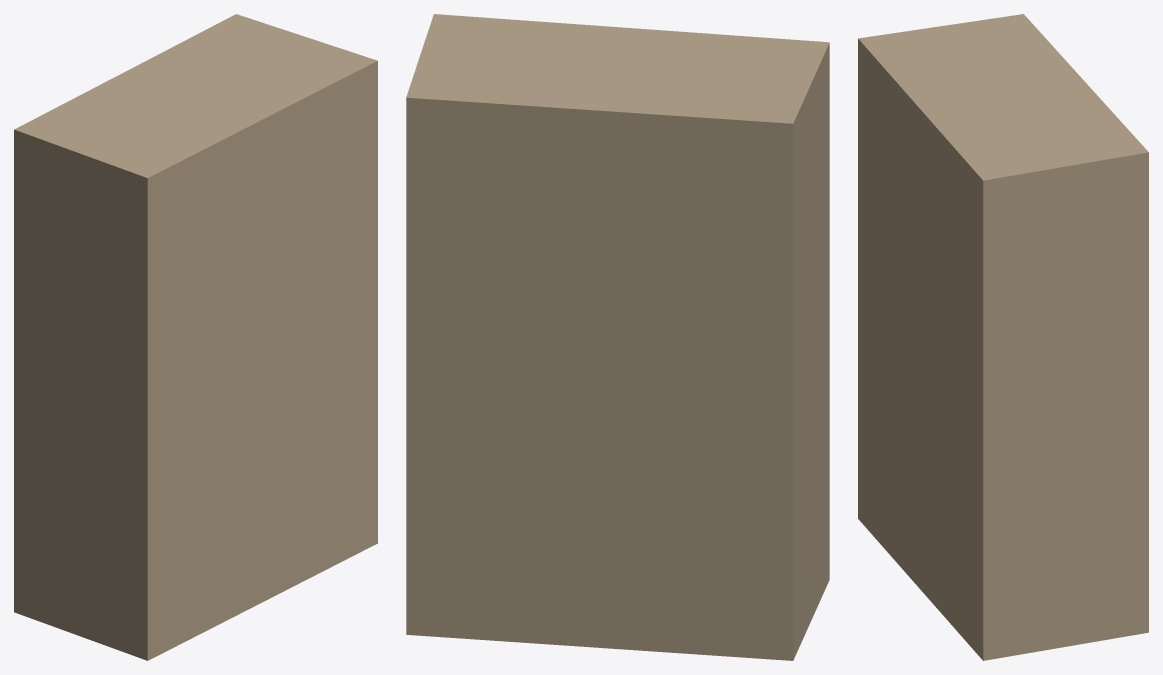
Rendered from bld_106796596.dae.
3 renders of one model, left to right at view 1: azimuth 30°, elevation 25°; view 2: azimuth 150°, elevation 25°; view 3: azimuth 270°, elevation 25°, orthographic. The views are drawn at different scales.
Parts seen in each view (by area): view 1: bld_106796596; view 2: bld_106796596; view 3: bld_106796596.
Boxes of the visible parts, left/top/right/bottom form: bld_106796596: left=14, top=14, right=377, bottom=660; bld_106796596: left=406, top=14, right=829, bottom=660; bld_106796596: left=858, top=14, right=1148, bottom=660.
Size of the model in its own units: 5.95 by 4.39 by 8.
